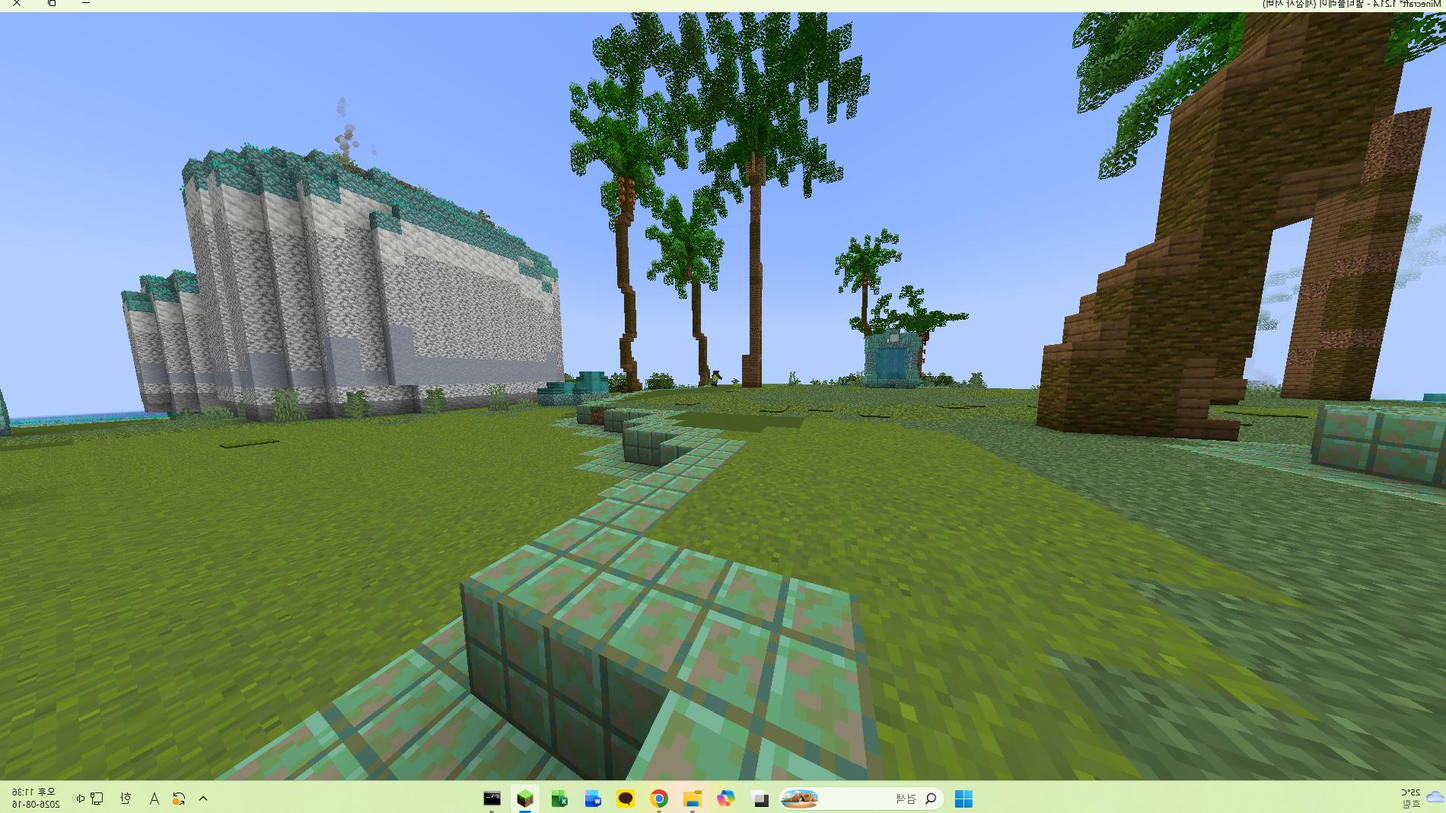Guardian: (711, 370, 719, 388)
